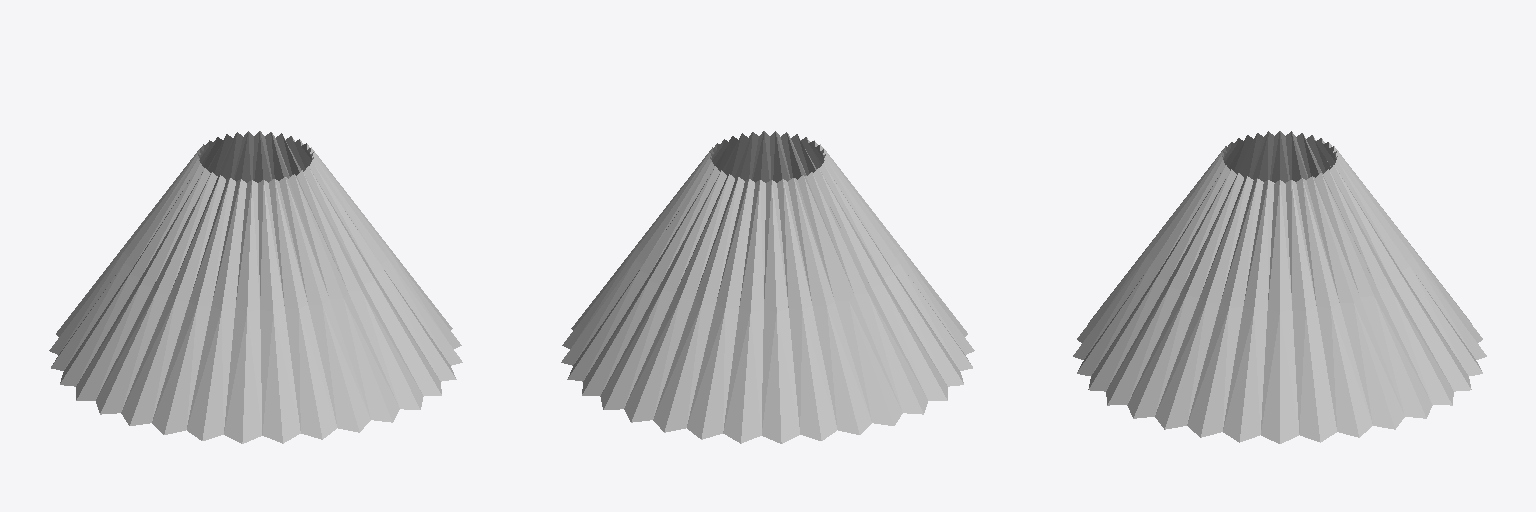
The model's file is lampHead.obj.
3 renders of one model, left to right at view 1: azimuth 30°, elevation 25°; view 2: azimuth 150°, elevation 25°; view 3: azimuth 270°, elevation 25°, orthographic.
Parts seen in each view (by area): view 1: Circle.003; view 2: Circle.003; view 3: Circle.003.
Part boxes in pixels (x1,y1,x2,y2): Circle.003: (49, 131, 462, 443); Circle.003: (561, 131, 974, 443); Circle.003: (1073, 131, 1486, 443).
Size of the model in its own units: 3.03 by 1.62 by 3.03.